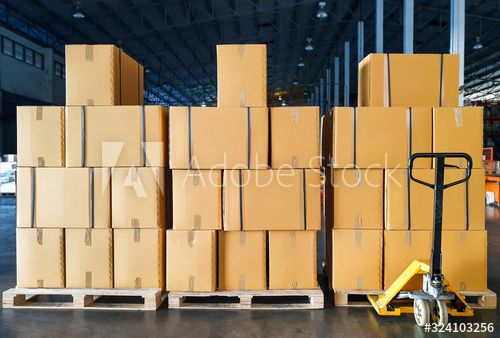box: (382, 227, 495, 291), (15, 168, 114, 229), (353, 53, 458, 109), (171, 109, 270, 168), (62, 44, 145, 106), (13, 104, 73, 168), (214, 45, 273, 105), (271, 103, 327, 166), (162, 229, 220, 289), (170, 169, 224, 230), (217, 233, 270, 290), (15, 228, 65, 286), (336, 171, 386, 229), (271, 230, 317, 289)
pallet: (1, 286, 165, 314), (165, 290, 332, 315), (337, 292, 377, 310)
